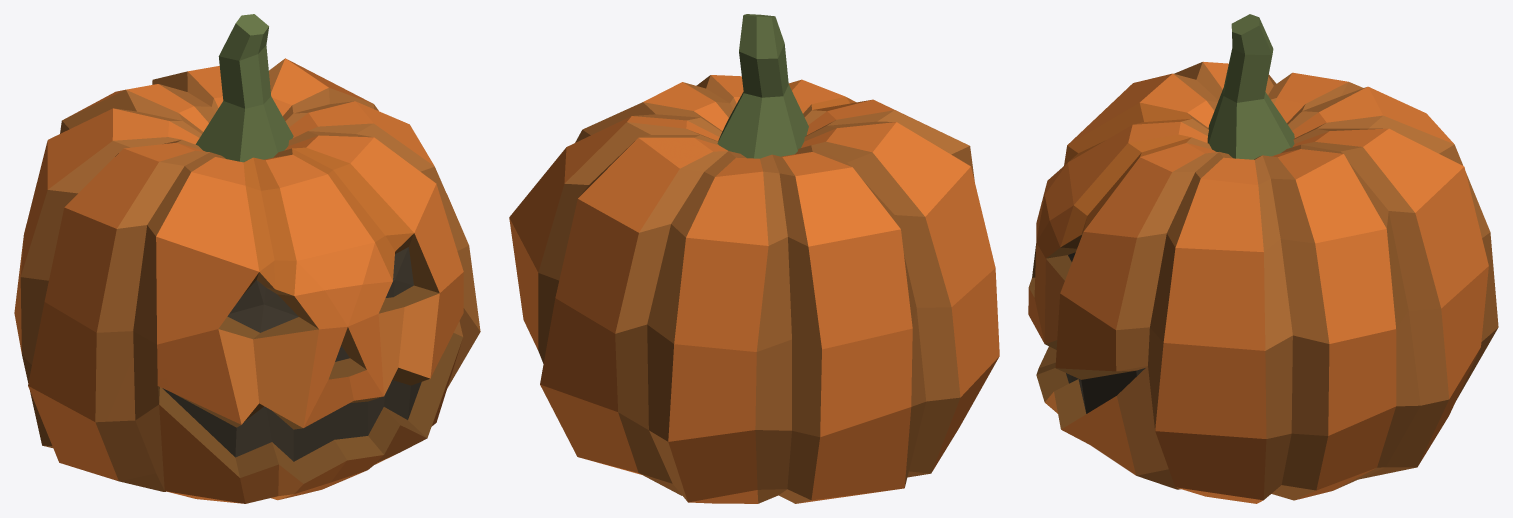
Rendered from WF_LP_HT_Props_Pumpkin.003.fbx.
3 views of the same model, side by side, from view 1: azimuth 30°, elevation 25°; view 2: azimuth 150°, elevation 25°; view 3: azimuth 270°, elevation 25° (orthographic).
Parts seen in each view (by area): view 1: WF_LP_HT_Props_Pumpkin.003; view 2: WF_LP_HT_Props_Pumpkin.003; view 3: WF_LP_HT_Props_Pumpkin.003.
Boxes of the visible parts, box(x1,y1,x2,y2) form: WF_LP_HT_Props_Pumpkin.003: box(14, 14, 480, 503); WF_LP_HT_Props_Pumpkin.003: box(509, 14, 999, 503); WF_LP_HT_Props_Pumpkin.003: box(1028, 14, 1498, 503).
Size of the model in its own units: 0.6106 by 0.6106 by 0.5959.
